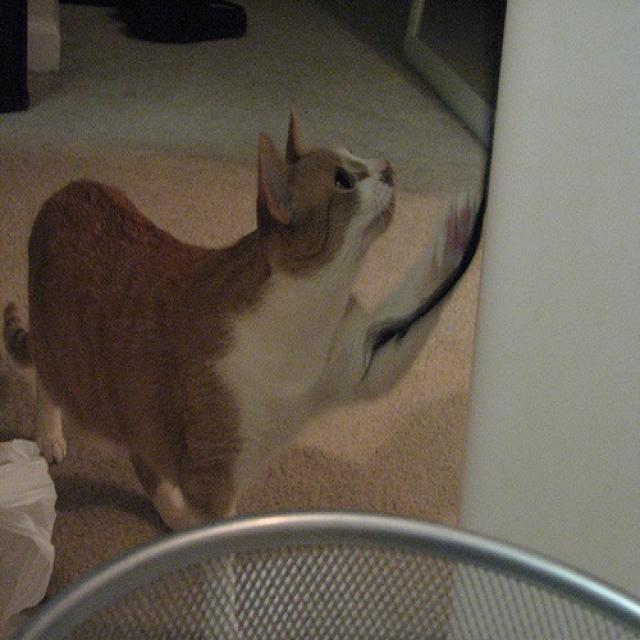cat: (2, 104, 482, 638)
